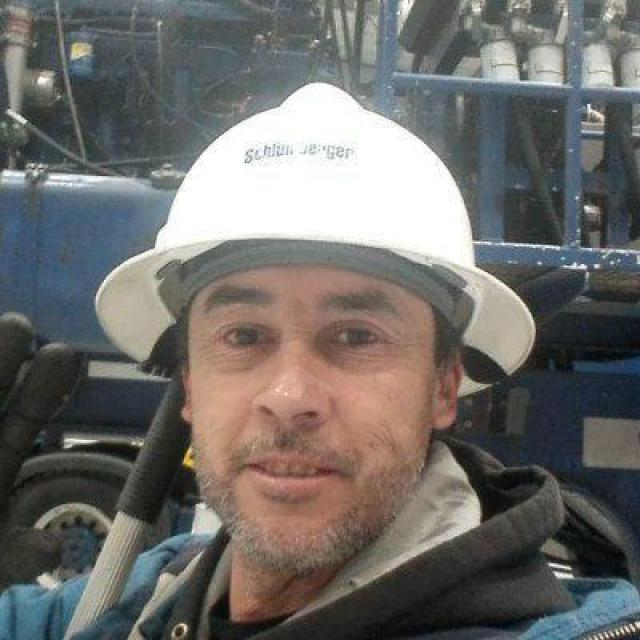helmet: (93, 82, 536, 371)
